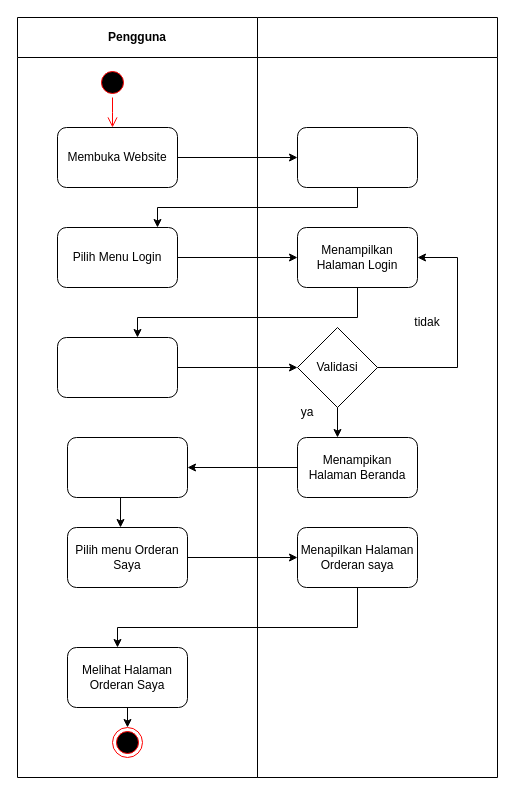
Some shapes in this 515 by 795 pixel diagram are drawn without their labels. The shapes that lost their labels are listed below. From the top down, each one's box as (x1, y1, x2, y2) in pixels, then its label:
(296, 126, 418, 188): Menampilkan Halaman Beranda
(56, 336, 178, 398): Masukkan Username dan Password
(256, 16, 498, 778): Sistem
(66, 436, 188, 498): Melihat Halaman Beranda
